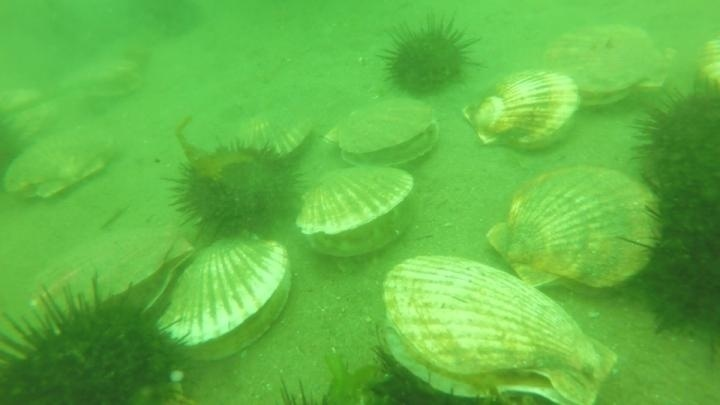echinus: (1, 275, 198, 405), (165, 135, 307, 246), (635, 180, 720, 344), (628, 76, 720, 209), (377, 13, 482, 102), (141, 1, 206, 41)
holothurian: (317, 349, 395, 405)
scallop: (370, 249, 619, 403), (479, 161, 669, 299), (153, 231, 298, 366), (21, 220, 198, 328), (287, 162, 422, 265), (540, 17, 676, 114), (460, 63, 585, 157), (1, 125, 121, 206), (328, 96, 443, 172), (225, 102, 316, 163), (58, 53, 147, 104), (270, 374, 339, 405), (693, 33, 720, 96)
